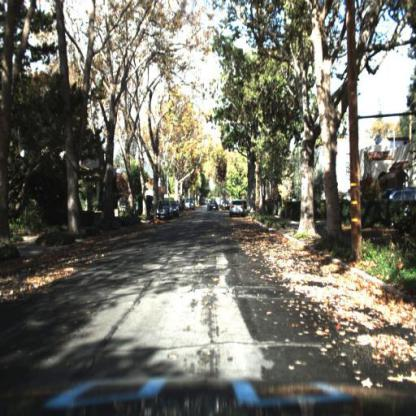car: (153, 201, 174, 224), (230, 200, 246, 221), (185, 194, 196, 212), (205, 199, 220, 212), (172, 196, 180, 217), (222, 199, 234, 213)
